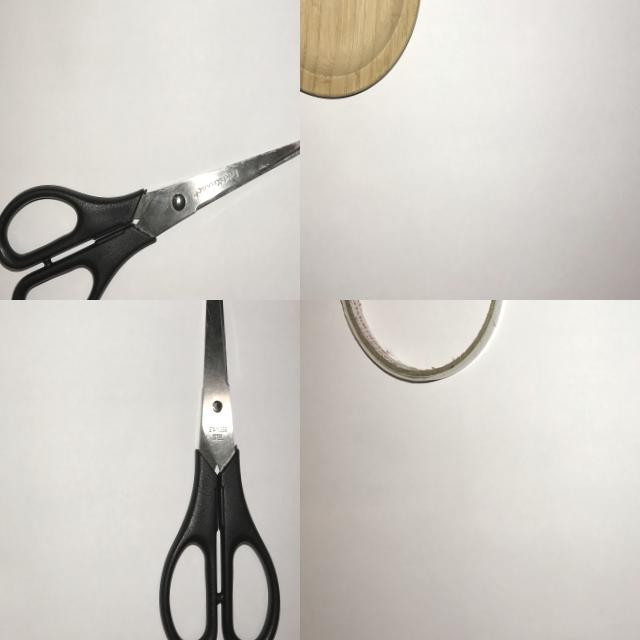cup_holder: (300, 0, 428, 110)
scissors: (0, 130, 300, 300), (146, 300, 285, 640)
scotch: (330, 300, 510, 390)
